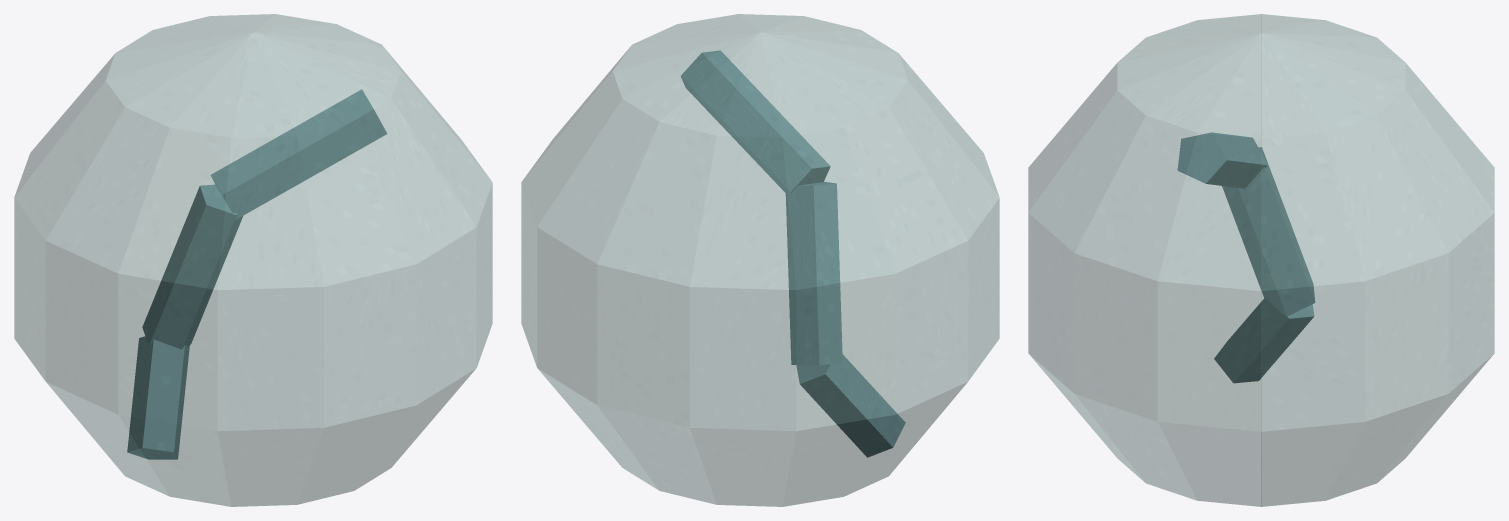
File: marble.glb
The picture shows the model from 3 angles, left to right: view 1: azimuth 30°, elevation 25°; view 2: azimuth 150°, elevation 25°; view 3: azimuth 270°, elevation 25°; orthographic projection.
Parts seen in each view (by area): view 1: block_ball body, block_internal glass ribbon 2, block_internal glass ribbon 1, block_internal glass ribbon 0; view 2: block_ball body, block_internal glass ribbon 1, block_internal glass ribbon 2, block_internal glass ribbon 0; view 3: block_ball body, block_internal glass ribbon 1, block_internal glass ribbon 0, block_internal glass ribbon 2.
Boxes of the visible parts, x1,y1,x2,y2 form: block_ball body: [14, 14, 492, 506]; block_internal glass ribbon 2: [211, 89, 386, 219]; block_internal glass ribbon 1: [142, 184, 242, 349]; block_internal glass ribbon 0: [127, 336, 189, 459]; block_ball body: [521, 14, 999, 506]; block_internal glass ribbon 1: [785, 182, 842, 365]; block_internal glass ribbon 2: [681, 50, 830, 192]; block_internal glass ribbon 0: [796, 355, 905, 457]; block_ball body: [1028, 14, 1494, 506]; block_internal glass ribbon 1: [1222, 147, 1315, 316]; block_internal glass ribbon 0: [1214, 298, 1314, 383]; block_internal glass ribbon 2: [1177, 132, 1267, 188].
Size of the model in its own units: 0.0153 by 0.016 by 0.0149.
2 materials, 2 textured.
